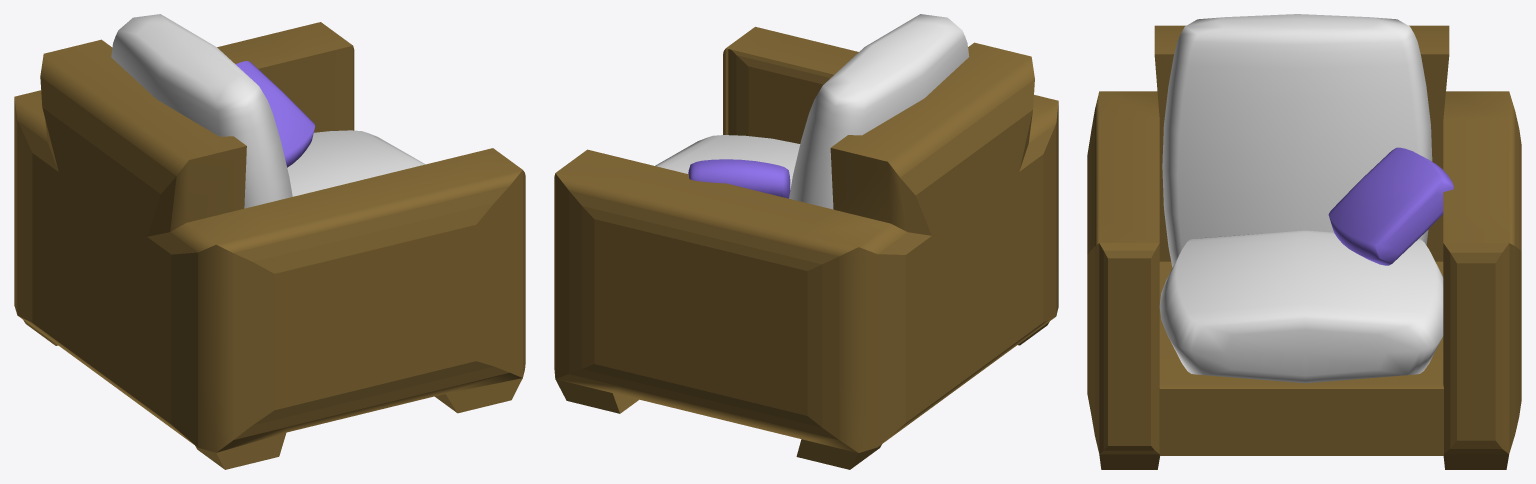
Rendered from Chair.fbx.
3 renders of one model, left to right at view 1: azimuth 30°, elevation 25°; view 2: azimuth 150°, elevation 25°; view 3: azimuth 270°, elevation 25°, orthographic. The views are drawn at different scales.
Parts seen in each view (by area): view 1: Poltrona, PCuscino_3, PCuscino_2, PCuscino_1; view 2: Poltrona, PCuscino_3, PCuscino_2, PCuscino_1; view 3: Poltrona, PCuscino_3, PCuscino_2, PCuscino_1.
Part boxes in pixels (box(x1,y1,x2,y2)): Poltrona: box(14, 22, 525, 469); PCuscino_3: box(111, 14, 292, 208); PCuscino_2: box(287, 130, 425, 196); PCuscino_1: box(236, 61, 315, 167); Poltrona: box(554, 26, 1058, 469); PCuscino_3: box(789, 14, 969, 209); PCuscino_2: box(655, 135, 800, 189); PCuscino_1: box(688, 159, 790, 198); Poltrona: box(1087, 25, 1521, 469); PCuscino_3: box(1162, 14, 1432, 267); PCuscino_2: box(1159, 230, 1443, 383); PCuscino_1: box(1328, 147, 1453, 265).
Bounding box in the file's own units: 1.52 × 1.46 × 1.69.
